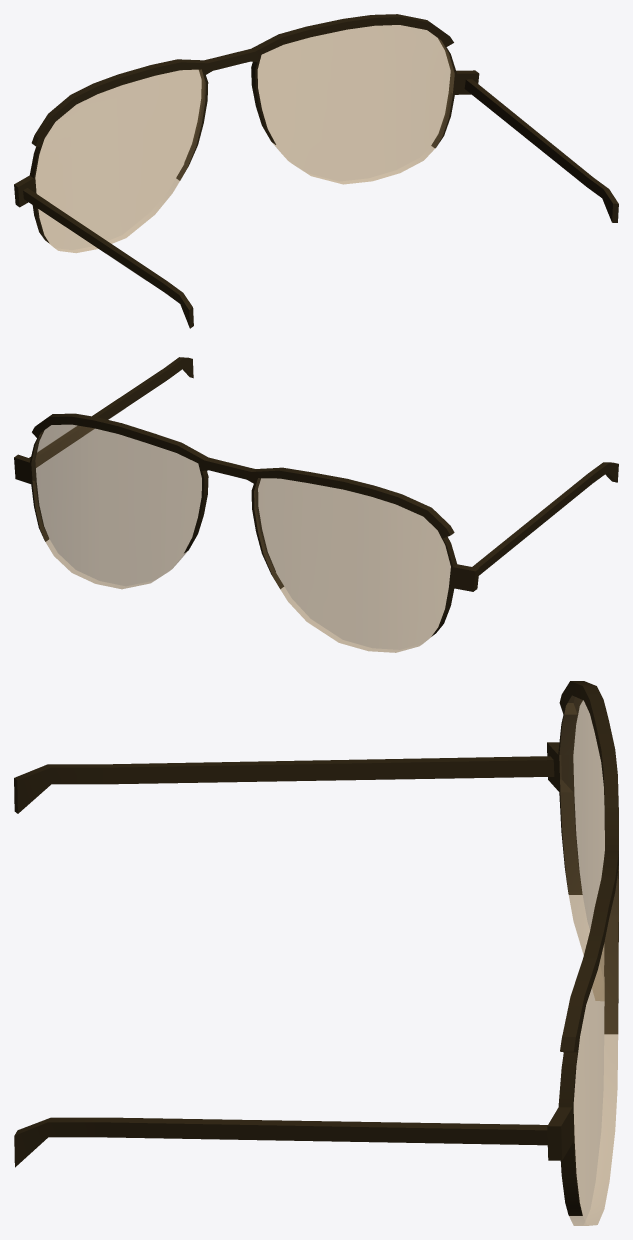
The model's file is Aviators2.fbx.
3 views of the same model, one above another, from view 1: azimuth 30°, elevation 25°; view 2: azimuth 150°, elevation 25°; view 3: azimuth 270°, elevation 25° (orthographic). The views are drawn at different scales.
Parts seen in each view (by area): view 1: glasses; view 2: glasses; view 3: glasses.
Part boxes in pixels (x1,y1,x2,y2): glasses: [14, 14, 618, 328]; glasses: [14, 357, 618, 652]; glasses: [14, 681, 618, 1225].
Size of the model in its own units: 16.95 by 5.8 by 11.22.
